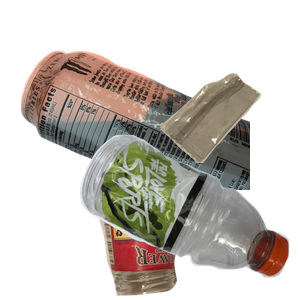glass: (91, 142, 260, 300)
metal: (18, 48, 258, 228)
plastic: (77, 132, 300, 300)
trash: (158, 71, 300, 227)
